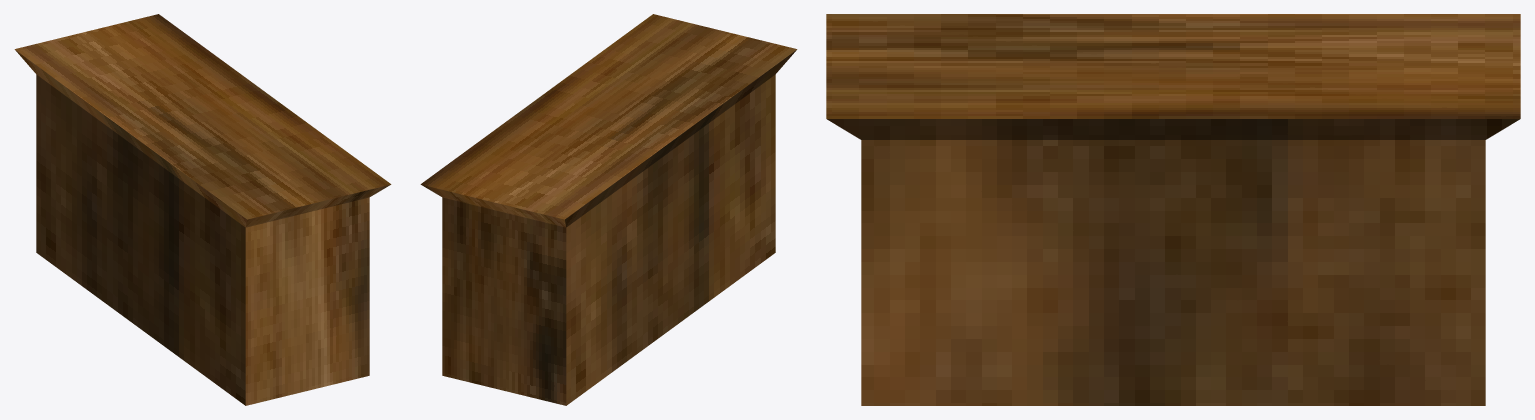
The model's file is Desk.glb.
The picture shows the model from 3 angles, left to right: view 1: azimuth 30°, elevation 25°; view 2: azimuth 150°, elevation 25°; view 3: azimuth 270°, elevation 25°; orthographic projection. The views are drawn at different scales.
Visible parts, largest first — view 1: Desk; view 2: Desk; view 3: Desk.
Boxes of the visible parts, box(x1,y1,x2,y2) form: Desk: box(14, 14, 391, 405); Desk: box(420, 14, 797, 405); Desk: box(826, 14, 1520, 405).
Size of the model in its own units: 0.7952 by 1.04 by 2.22.
Materials: 1 (1 with a texture image).
